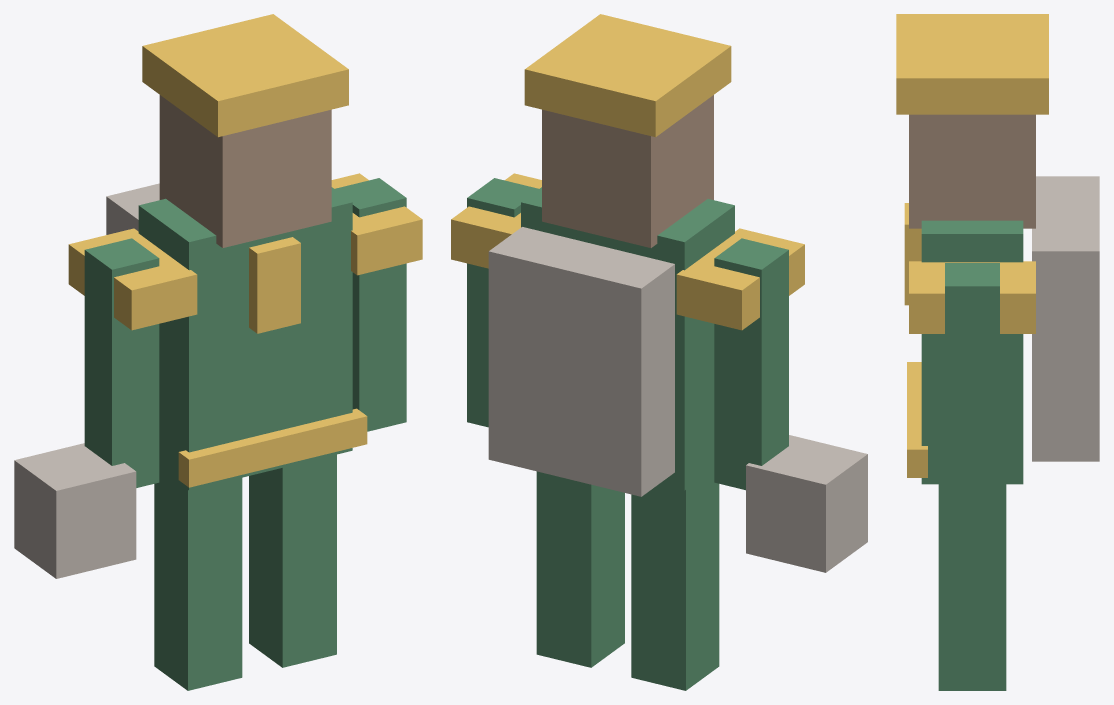
The model's file is 18_sable_gearmantle_warden_at_scout.glb.
3 views of the same model, side by side, from view 1: azimuth 30°, elevation 25°; view 2: azimuth 150°, elevation 25°; view 3: azimuth 270°, elevation 25° (orthographic).
Visible parts, largest first — view 1: Sable Gearmantle, Warden at Scout; view 2: Sable Gearmantle, Warden at Scout; view 3: Sable Gearmantle, Warden at Scout.
Boxes of the visible parts, x1,y1,x2,y2 form: Sable Gearmantle, Warden at Scout: (14, 14, 422, 690); Sable Gearmantle, Warden at Scout: (451, 14, 867, 690); Sable Gearmantle, Warden at Scout: (896, 14, 1099, 690).
Size of the model in its own units: 1.01 by 1.61 by 0.4879.
